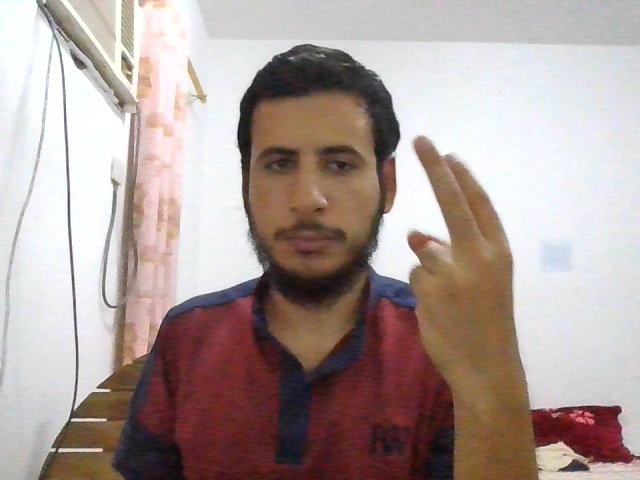Two: (406, 136, 523, 387)
